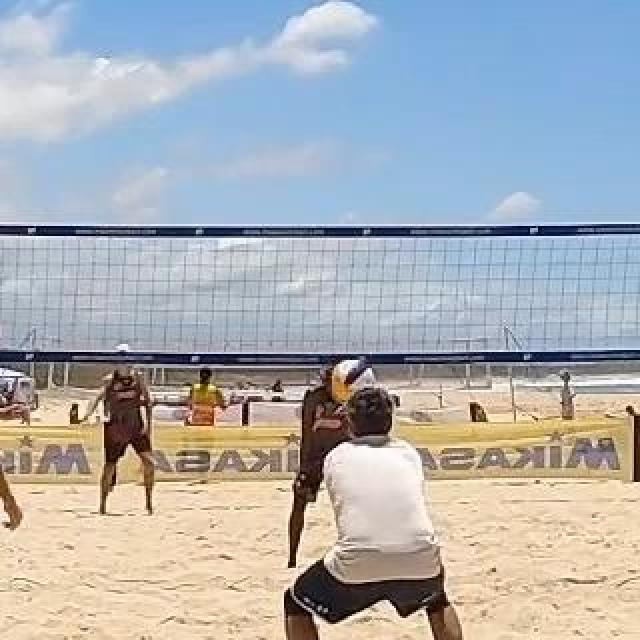volleyball: (329, 358, 377, 406)
